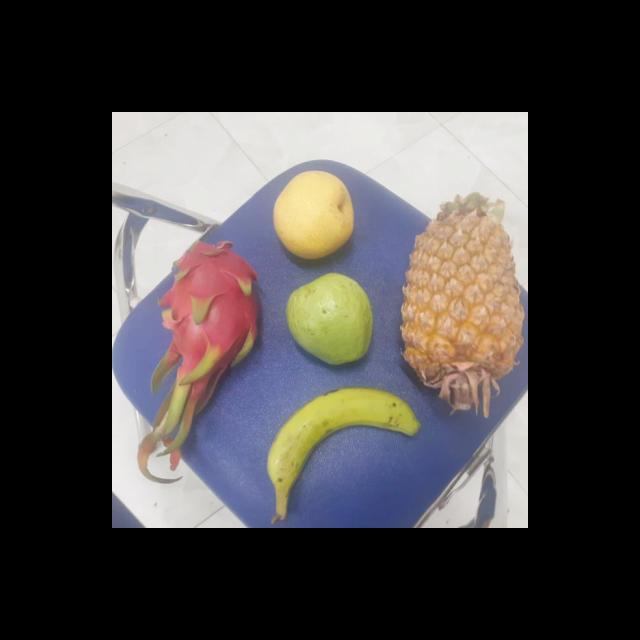banana: (266, 388, 412, 500)
guava: (281, 275, 374, 364)
pear: (266, 172, 356, 259)
pineapple: (398, 198, 524, 420)
pitaya: (157, 240, 263, 372)
